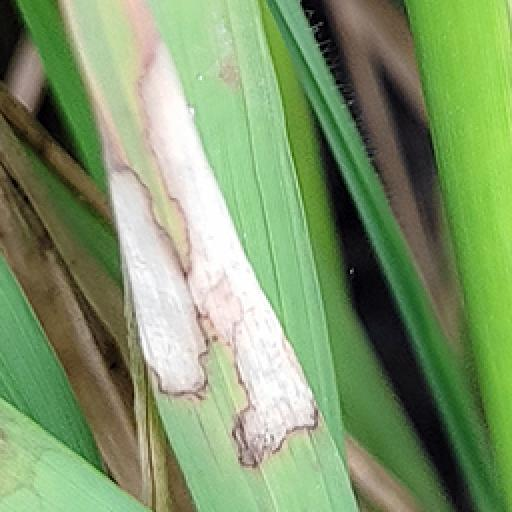Leaf Blast Disease: (50, 28, 330, 478), (0, 78, 190, 508)
